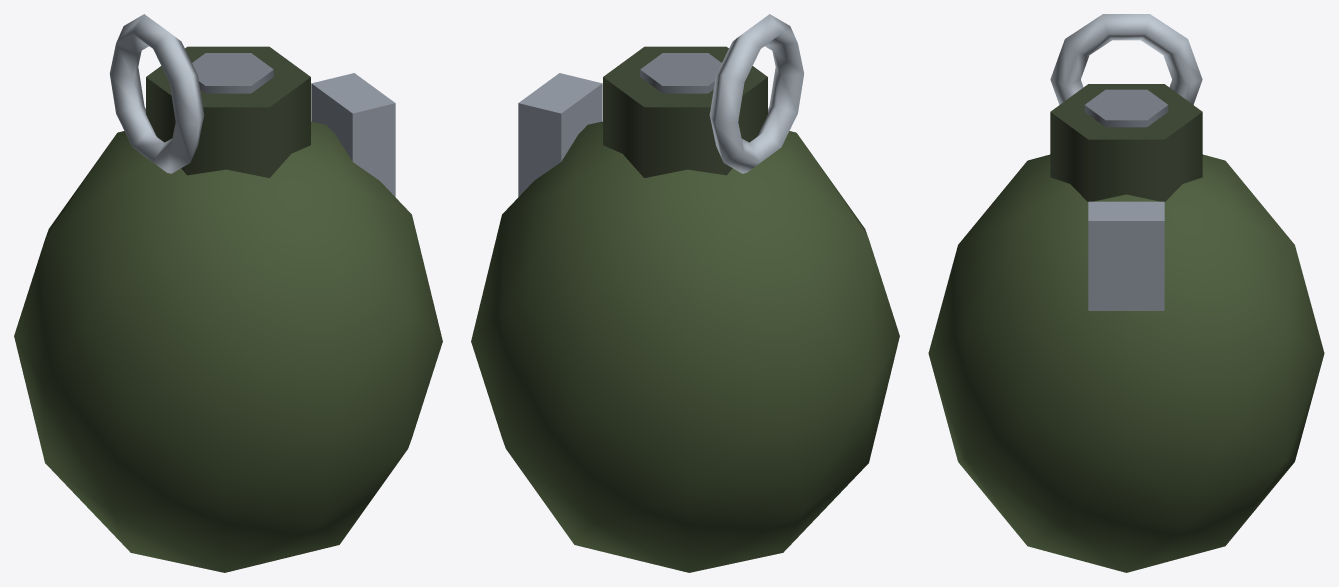
File: frag.glb
3 views of the same model, side by side, from view 1: azimuth 30°, elevation 25°; view 2: azimuth 150°, elevation 25°; view 3: azimuth 270°, elevation 25° (orthographic). The views are drawn at different scales.
Visible parts, largest first — view 1: Frag; view 2: Frag; view 3: Frag.
Boxes of the visible parts, x1,y1,x2,y2 form: Frag: [14, 14, 442, 572]; Frag: [471, 14, 899, 572]; Frag: [928, 14, 1324, 572].
Size of the model in its own units: 0.104 by 0.1488 by 0.104.
